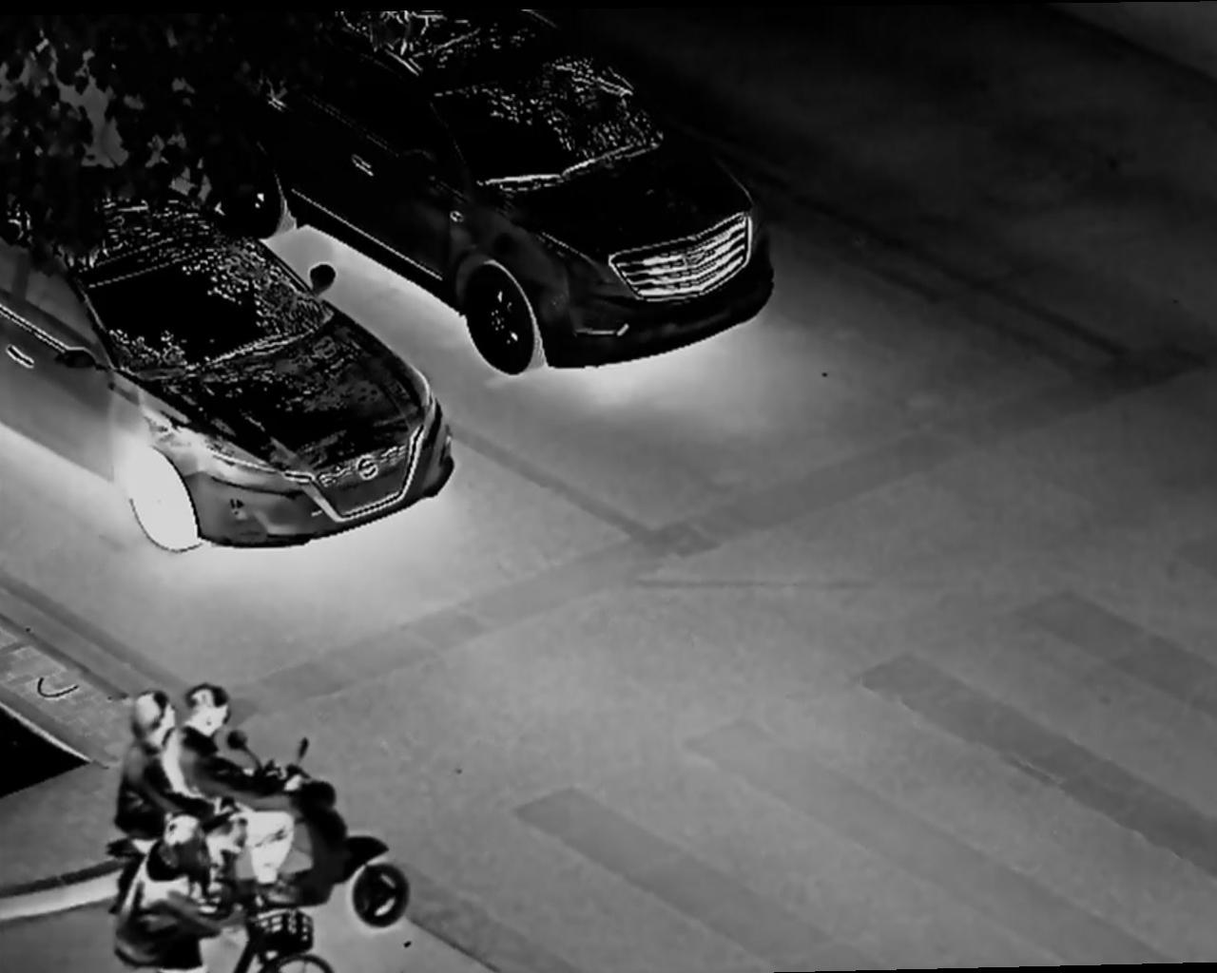person: (178, 677, 310, 871), (101, 690, 184, 948)
